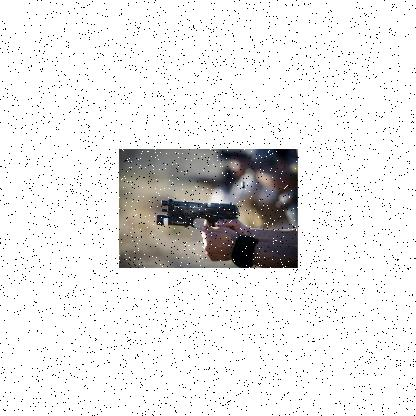gun: (152, 198, 238, 262)
